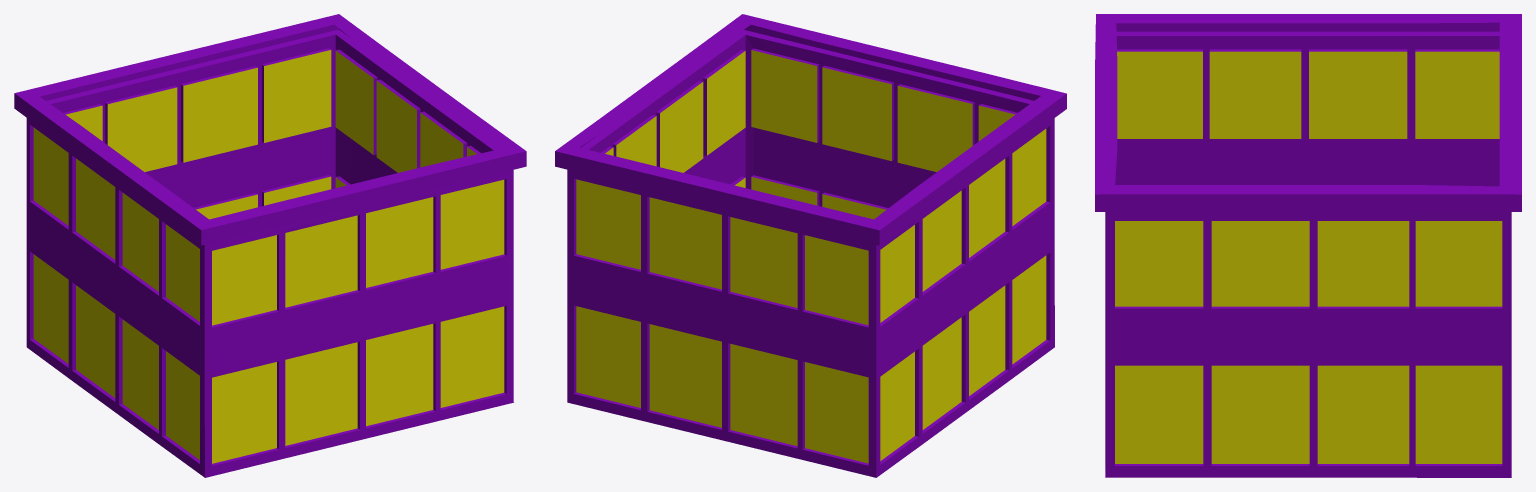
File: Building_Small_Peice_001.fbx
The picture shows the model from 3 angles, left to right: view 1: azimuth 30°, elevation 25°; view 2: azimuth 150°, elevation 25°; view 3: azimuth 270°, elevation 25°; orthographic projection. The views are drawn at different scales.
Parts seen in each view (by area): view 1: Building_Small_Piece_001; view 2: Building_Small_Piece_001; view 3: Building_Small_Piece_001.
Boxes of the visible parts, <box> form: Building_Small_Piece_001: <box>14,14,526,477</box>; Building_Small_Piece_001: <box>555,14,1066,477</box>; Building_Small_Piece_001: <box>1095,14,1521,477</box>.
Bounding box in the file's own units: 5380 × 4000 × 5376.
